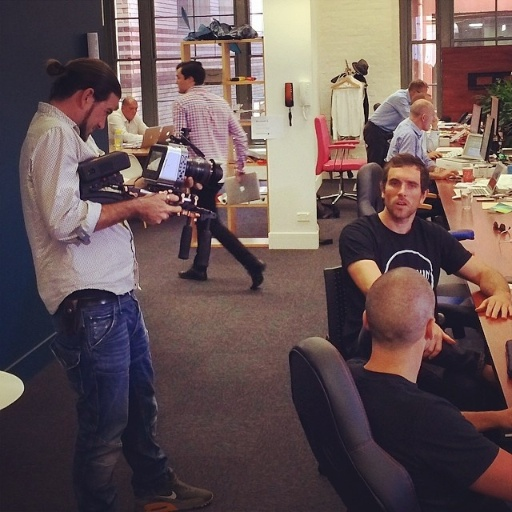hand: (104, 179, 176, 230), (423, 321, 457, 360), (475, 291, 511, 321), (132, 176, 150, 190), (440, 168, 459, 180), (428, 148, 443, 160), (232, 169, 241, 184), (430, 113, 438, 126)
